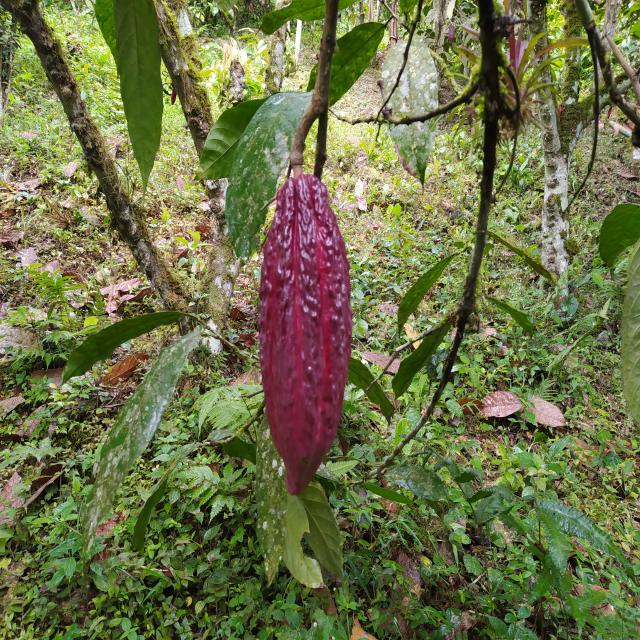Sana: (254, 173, 350, 495)
